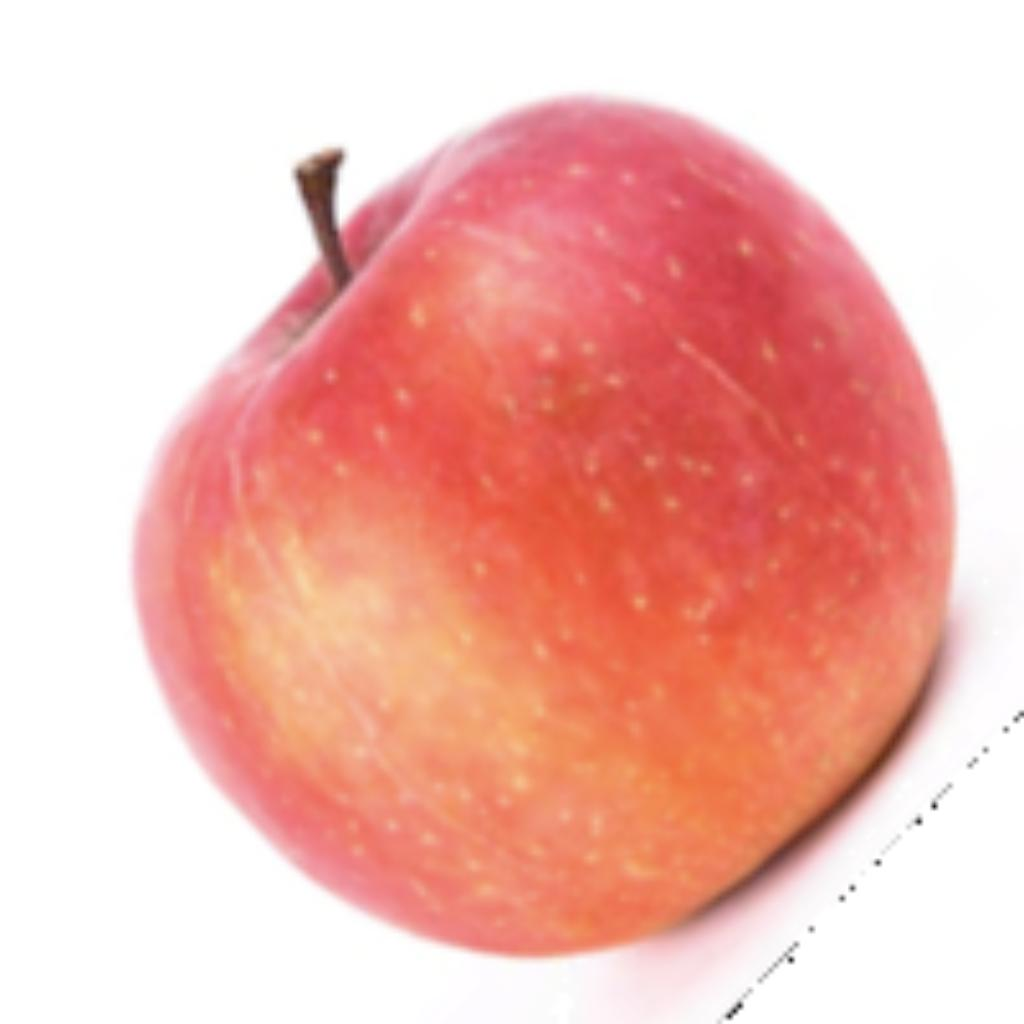apple: (123, 82, 993, 1004)
